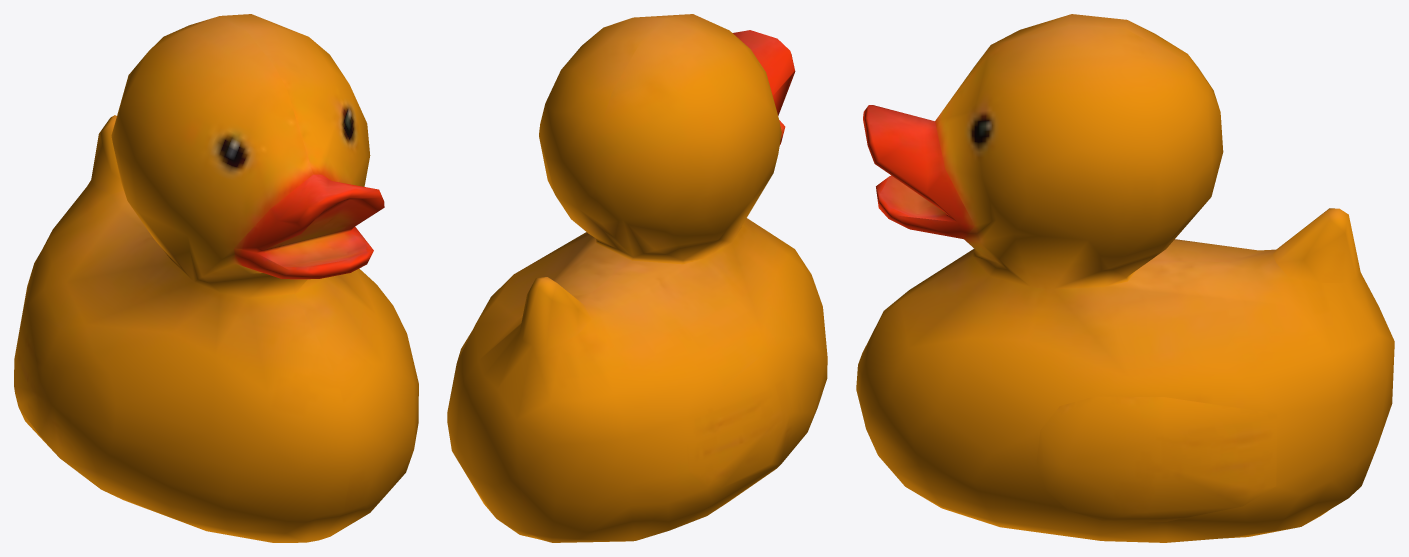
The model's file is duck.glb.
The picture shows the model from 3 angles, left to right: view 1: azimuth 30°, elevation 25°; view 2: azimuth 150°, elevation 25°; view 3: azimuth 270°, elevation 25°; orthographic projection. The views are drawn at different scales.
Parts seen in each view (by area): view 1: rubber_duck_toy; view 2: rubber_duck_toy; view 3: rubber_duck_toy.
Boxes of the visible parts, x1,y1,x2,y2 form: rubber_duck_toy: (14,14,418,542); rubber_duck_toy: (447,14,827,542); rubber_duck_toy: (856,14,1394,542).
Size of the model in its own units: 0.2125 by 0.2847 by 0.2987.
1 material, 1 textured.
